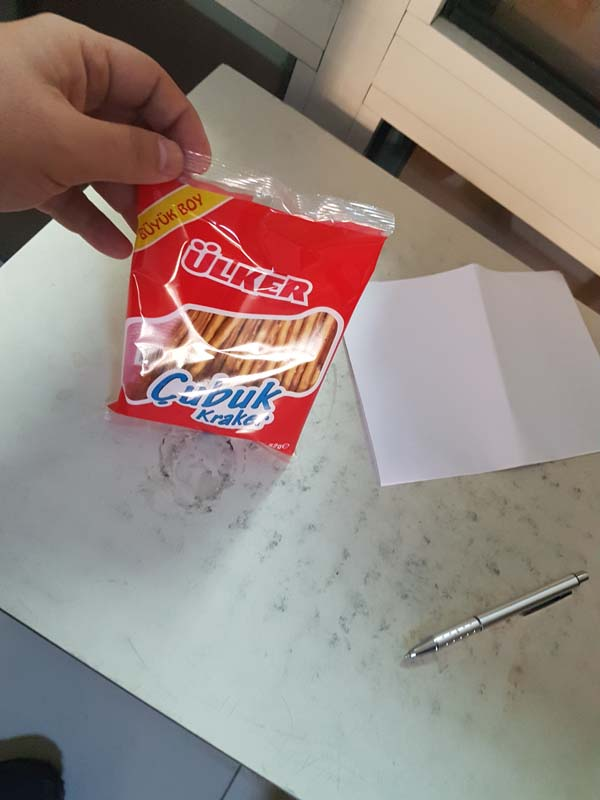eticubuk: (116, 175, 351, 458)
